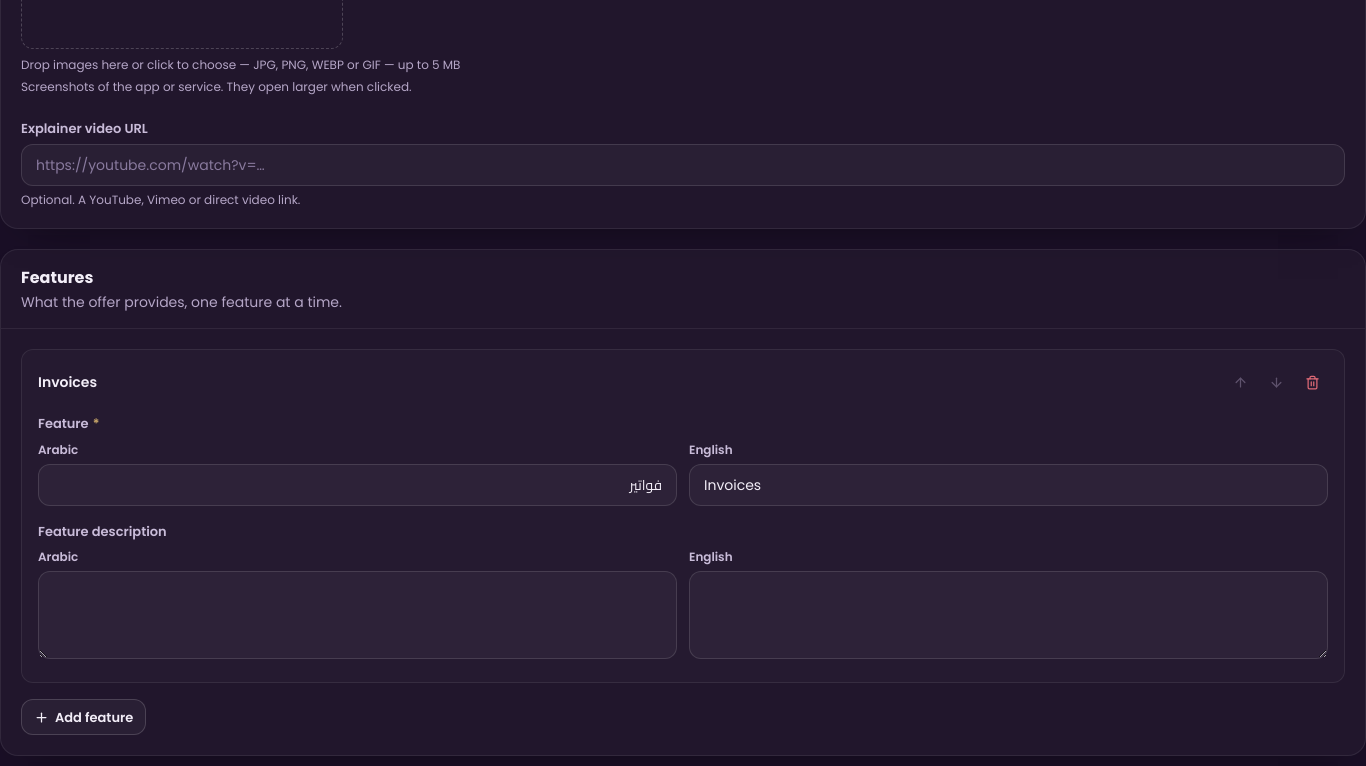
Test: OfferEdit › loads the offer with its features and plans and keeps Save disabled until a change
(page scrolled)
Expected: the field named "Feature (English)" holds "Invoices", [689,464,1328,506]
Click the button named "Remove “Invoices”".
click(1312, 382)  # box [1296,366,1328,398]
(page scrolled)
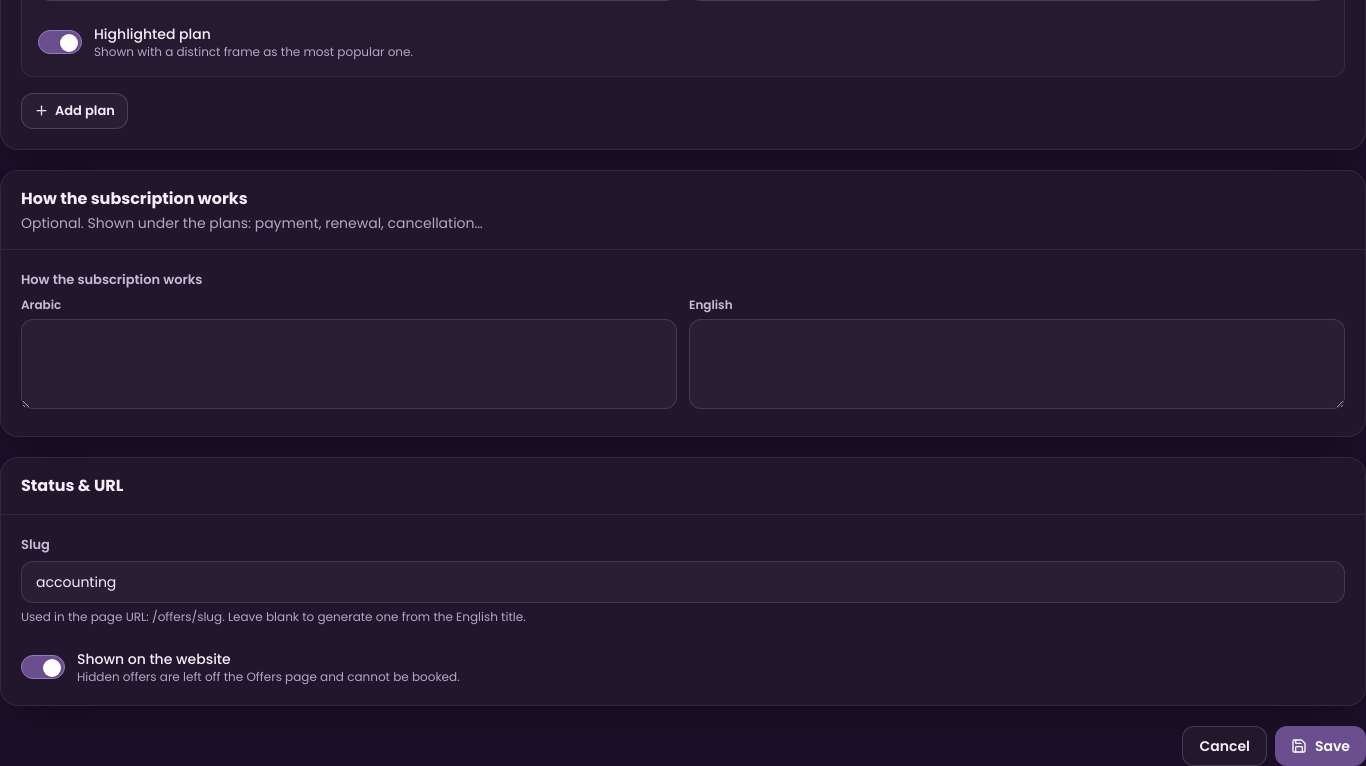
Now the button "Save" is enabled, box [1275,726,1365,765]
